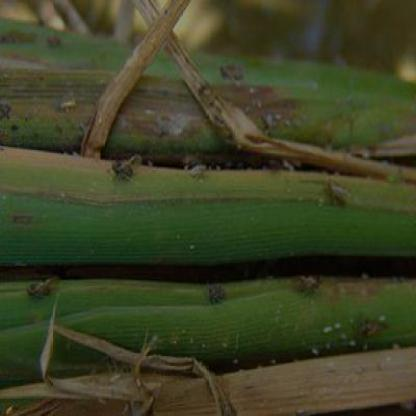brown-planthopper: (29, 271, 58, 300), (112, 151, 140, 181), (325, 178, 347, 209), (358, 317, 386, 341), (222, 62, 244, 85), (205, 284, 226, 305), (300, 275, 320, 295), (190, 162, 206, 178)
